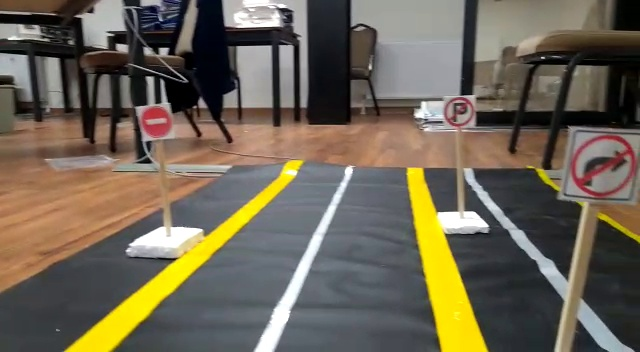girisi_olmayan_yol: (139, 104, 174, 138)
park_yapilmaz: (444, 96, 477, 130)
saga_donulmez: (567, 131, 638, 202)
